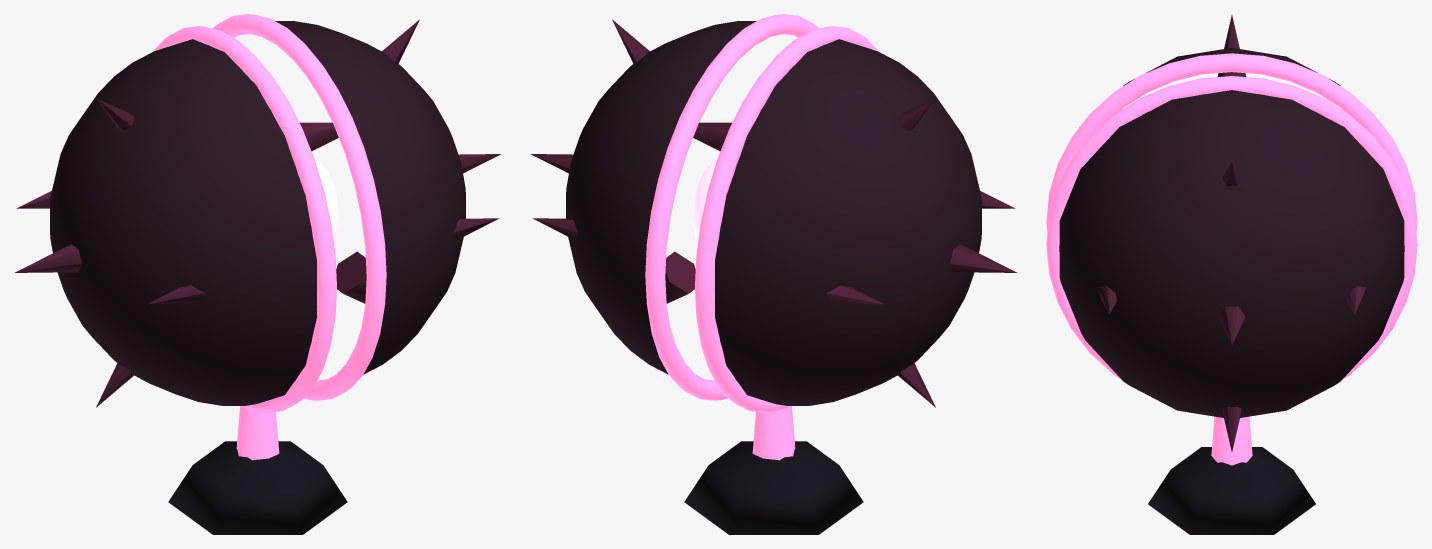
File: splitter.glb
3 renders of one model, left to right at view 1: azimuth 30°, elevation 25°; view 2: azimuth 150°, elevation 25°; view 3: azimuth 270°, elevation 25°, orthographic. The views are drawn at different scales.
Visible parts, largest first — view 1: halfR:hull, halfL:hull, root:dark, halfL:glow, halfR:glow, halfL:plate, halfR:plate, root:glow, core:hot; view 2: halfR:hull, halfL:hull, root:dark, halfL:glow, halfR:glow, halfL:plate, halfR:plate, root:glow, core:hot; view 3: halfL:hull, root:dark, halfL:glow, halfR:glow, halfL:plate, root:glow, halfR:hull.
Part boxes in pixels (x1,y1,x2,y2): halfR:hull: (50,39,316,405); halfL:hull: (275,21,465,374); root:dark: (168,441,347,534); halfL:glow: (213,14,386,400); halfR:glow: (153,26,336,412); halfL:plate: (300,19,501,303); halfR:plate: (14,98,205,407); root:glow: (236,406,279,460); core:hot: (313,155,338,241); halfR:hull: (715,39,981,405); halfL:hull: (566,21,756,374); root:dark: (684,441,863,534); halfL:glow: (645,14,818,400); halfR:glow: (695,26,878,412); halfL:plate: (530,19,731,303); halfR:plate: (826,98,1017,407); root:glow: (752,406,795,460); core:hot: (693,155,718,241); halfL:hull: (1059,90,1404,417); root:dark: (1148,447,1315,534); halfL:glow: (1046,76,1417,391); halfR:glow: (1046,53,1417,232); halfL:plate: (1097,163,1366,451); root:glow: (1211,416,1252,465); halfR:hull: (1123,48,1340,85).
Bounding box in the file's own units: 1.38 × 1.31 × 0.97.
